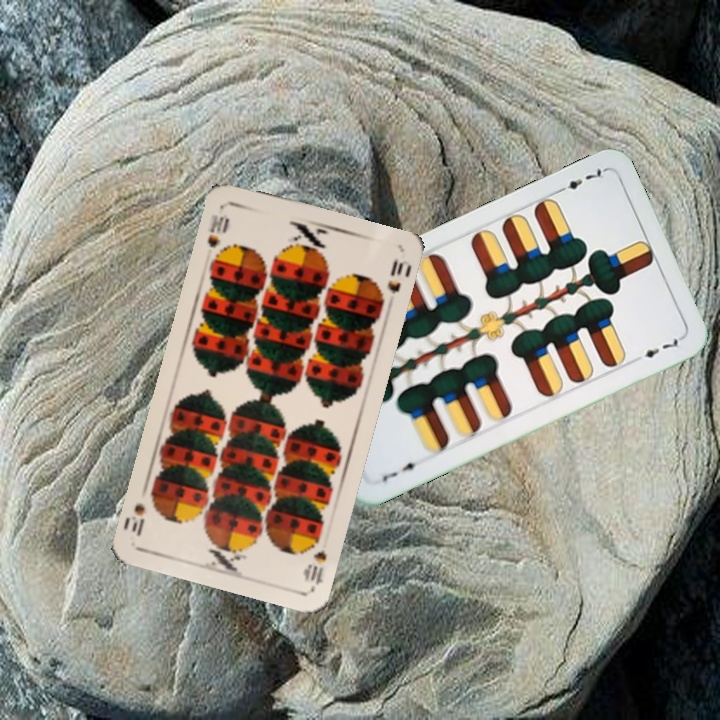E7: (552, 164, 608, 196), (377, 458, 424, 484)
S10: (300, 545, 329, 591), (203, 210, 232, 250)
